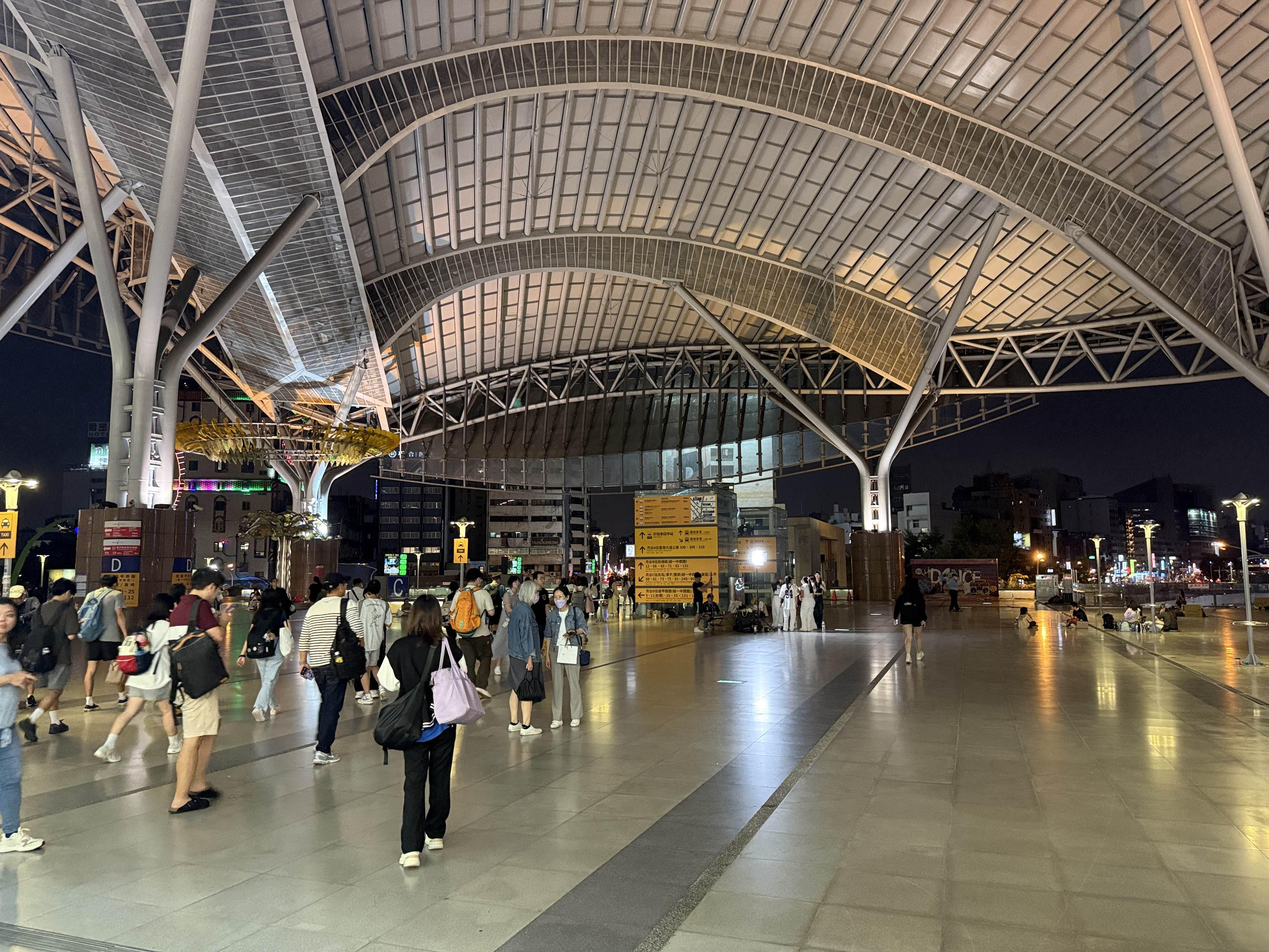NoHelmet: (193, 568, 226, 602), (413, 595, 441, 631), (52, 578, 77, 600), (519, 580, 539, 605), (553, 586, 570, 610)
